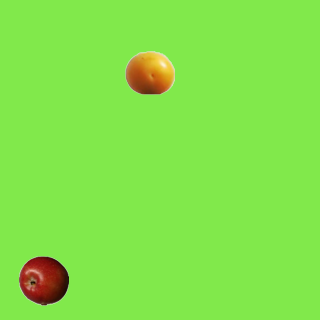Apple Braeburn: (18, 255, 68, 305)
Cherry Wax Yellow: (124, 47, 174, 97)
